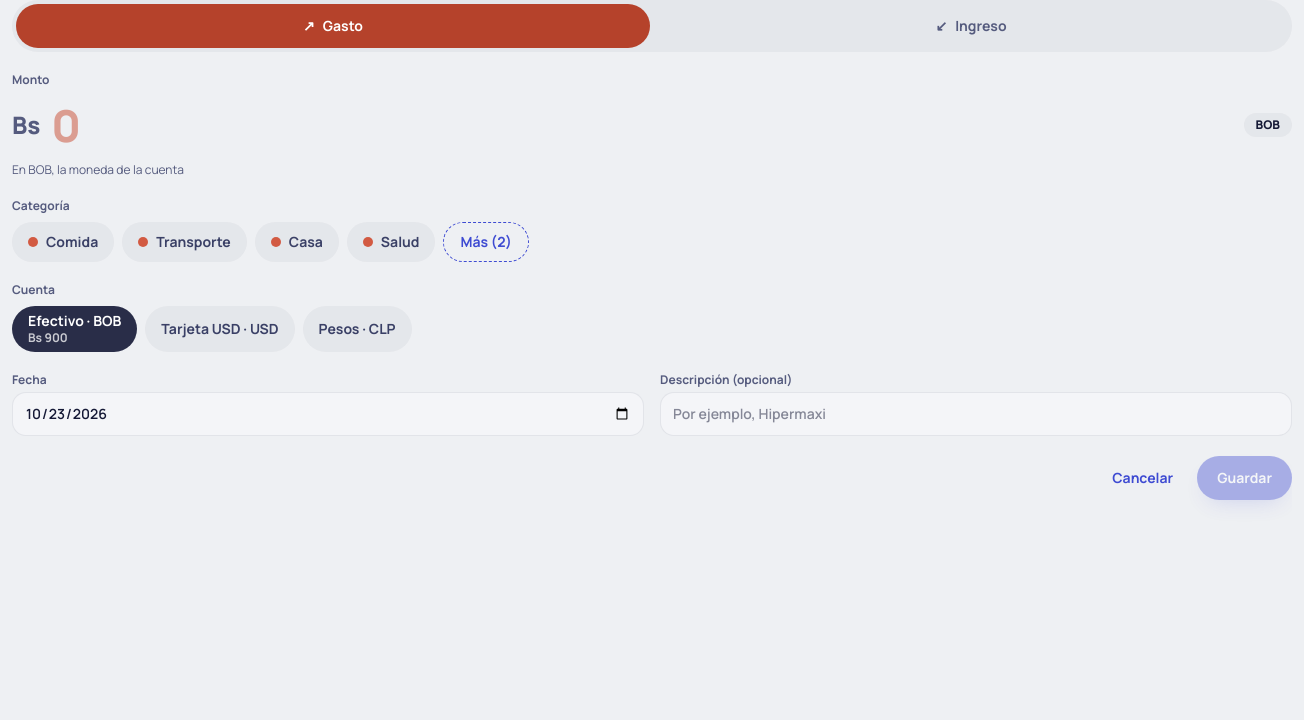
Quick Add con las 4 categorías principales (MM-176) › "Más" opens the rest and "Menos" hides it again
Expected: the button "Ocio" is not shown
Click the button "Más (2)" at (486, 242), box [444,222,529,262]
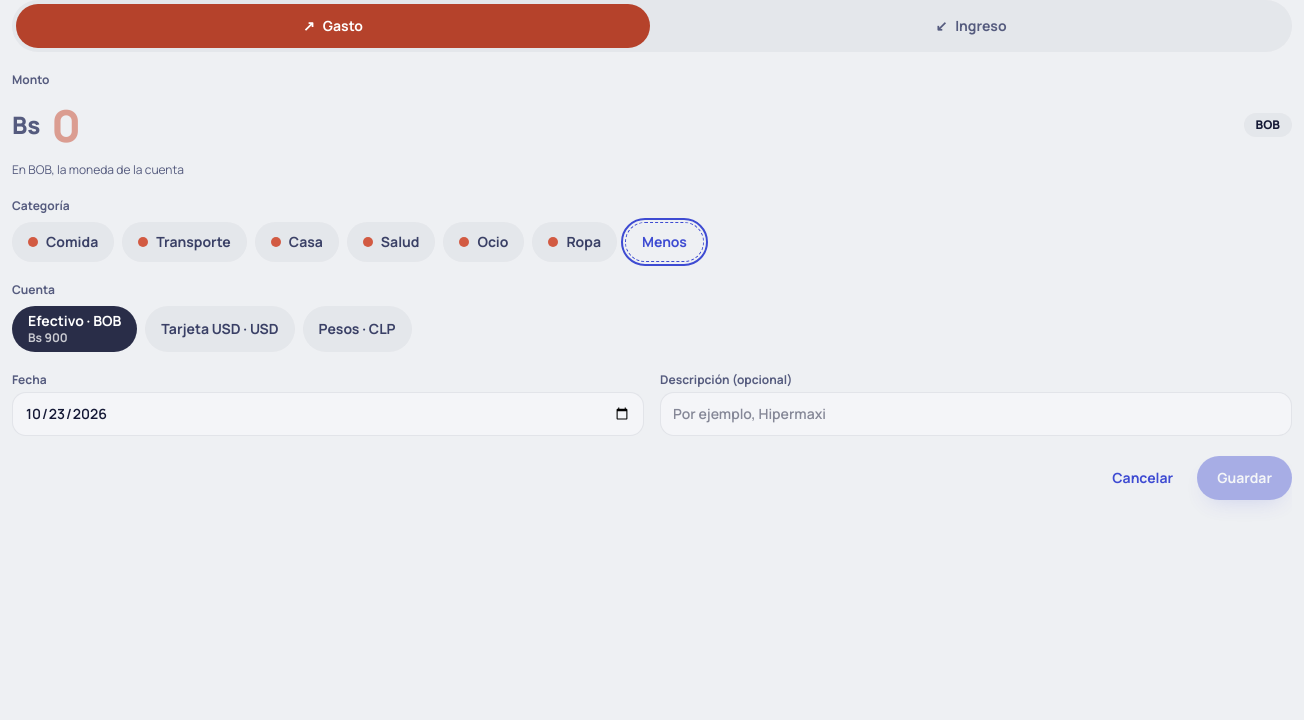
Expected: the button "Ocio" is shown
Click the button "Ocio" at (484, 242), box [444,222,524,262]
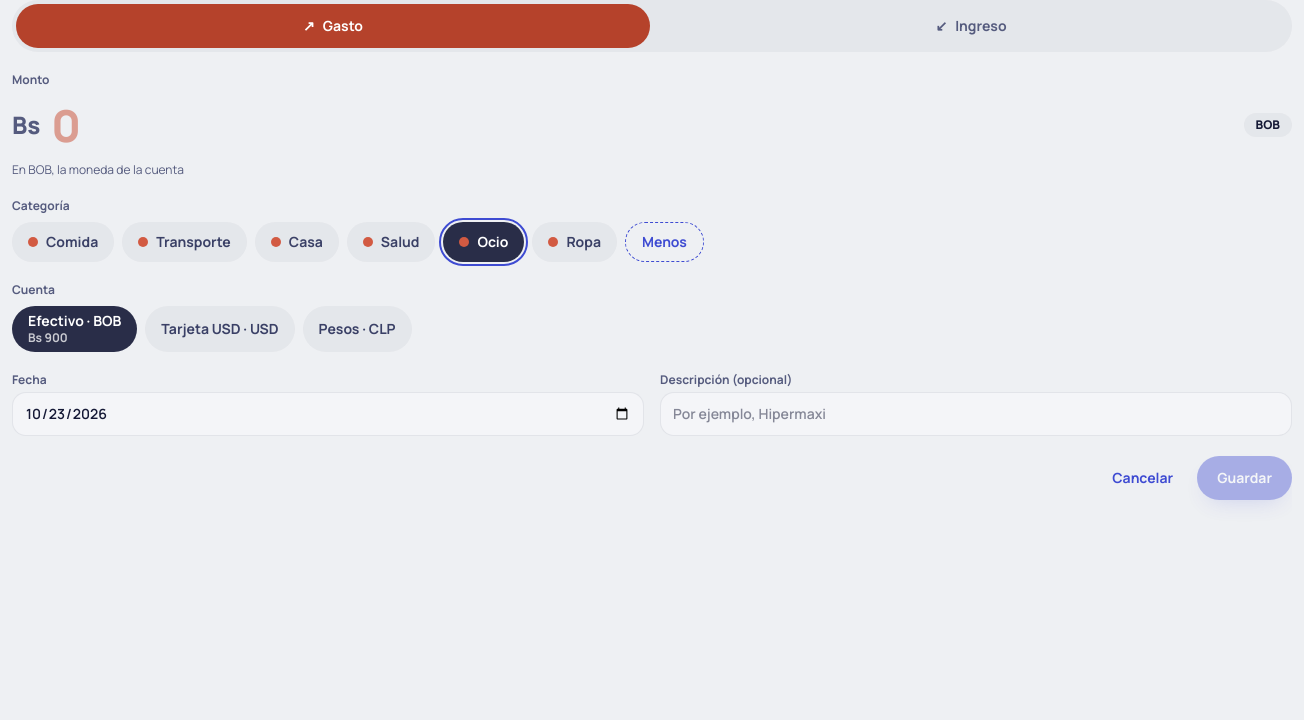
Click the button "Menos" at (664, 242), box [625,222,704,262]
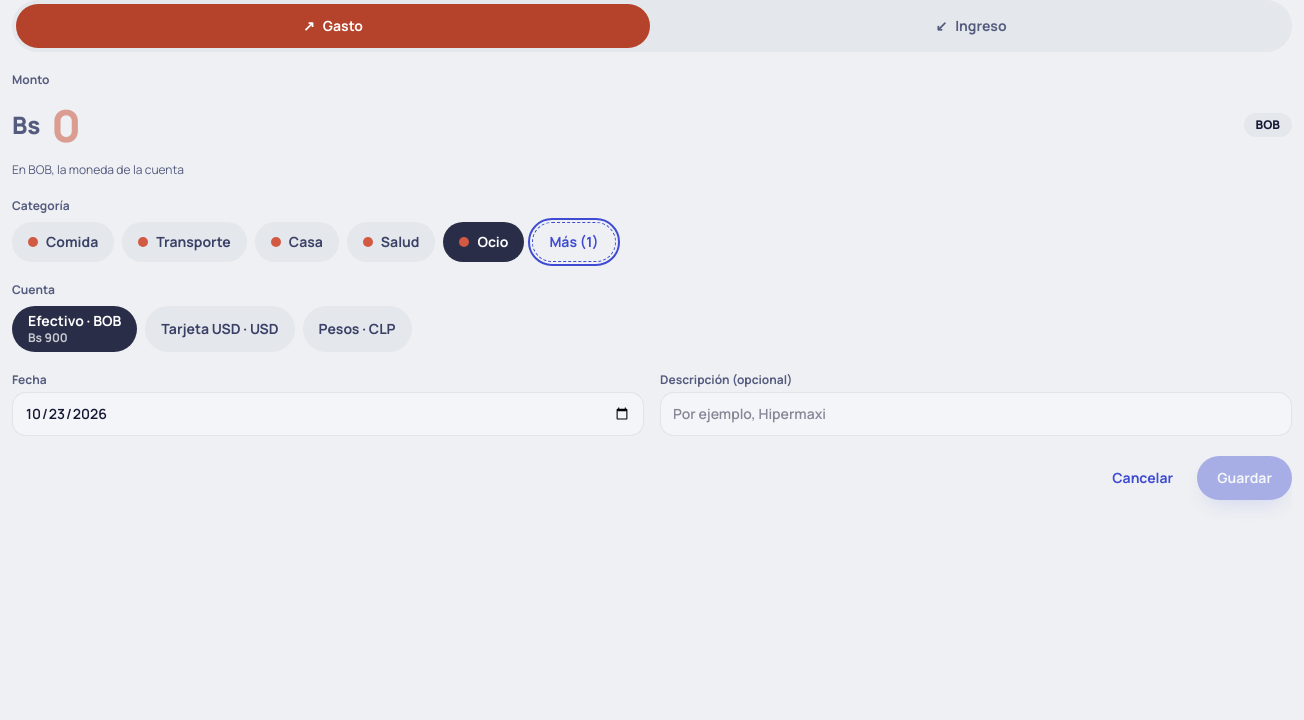
Expected: the button "Ropa" is gone
Expected: the button "Más (1)" is shown, [532,222,616,262]
